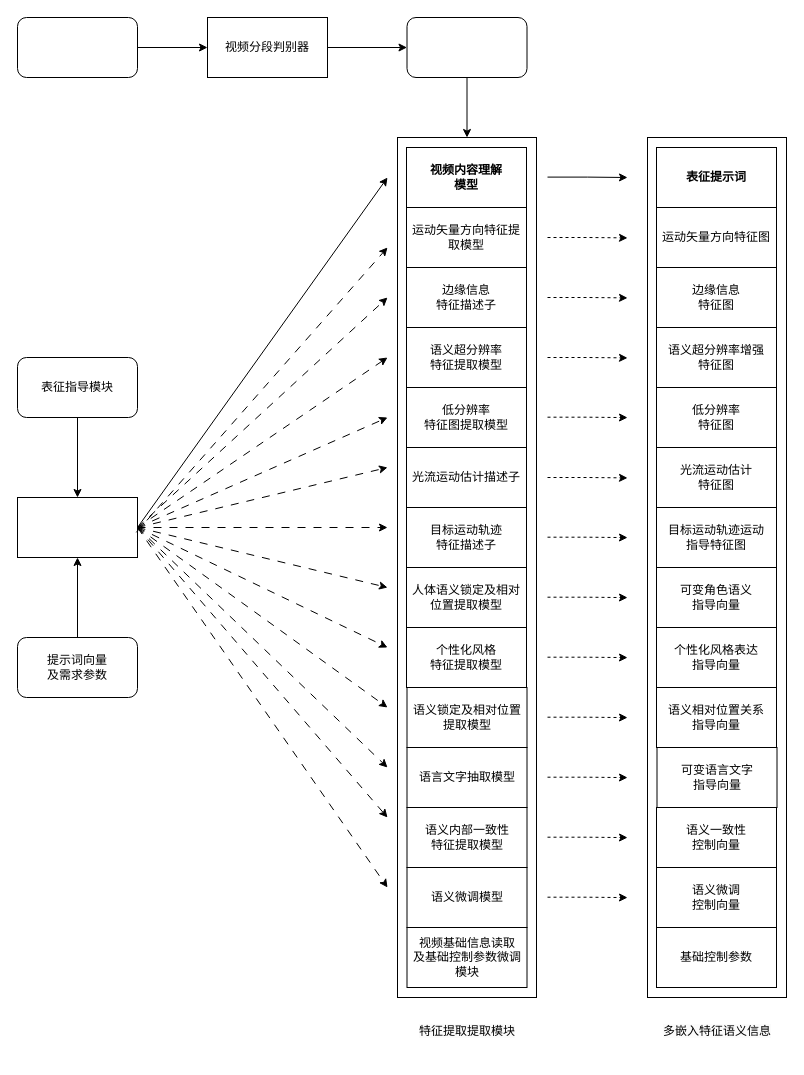
The diagram is 804 pixels wide and 1075 high, and some of its shapes have lost their labels. The shapes that lost their labels are listed below. From the top down, each one's centre as x and y in pixels, then its label:
At (77,47): "原始语义信息 视频".
At (466,47): "原始语义信息 视频片段".
At (77,527): "相位权重编码".
